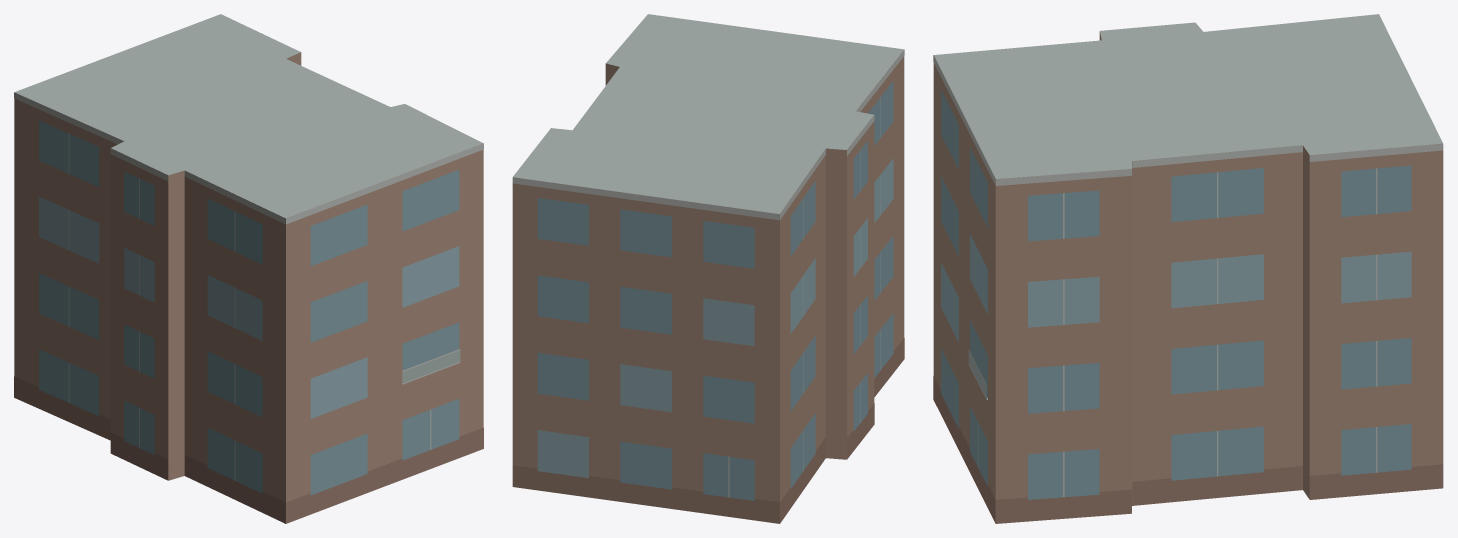
The model's file is survey-upis-32638558.glb.
3 views of the same model, side by side, from view 1: azimuth 30°, elevation 25°; view 2: azimuth 150°, elevation 25°; view 3: azimuth 270°, elevation 25° (orthographic). The views are drawn at different scales.
Parts seen in each view (by area): view 1: survey-upis-32638558.tmp; view 2: survey-upis-32638558.tmp; view 3: survey-upis-32638558.tmp.
Part boxes in pixels (box(x1,y1,x2,y2)): survey-upis-32638558.tmp: box(14, 14, 483, 523); survey-upis-32638558.tmp: box(512, 14, 904, 523); survey-upis-32638558.tmp: box(933, 14, 1443, 523).
Bounding box in the file's own units: 12.54 × 12.2 × 16.36.
